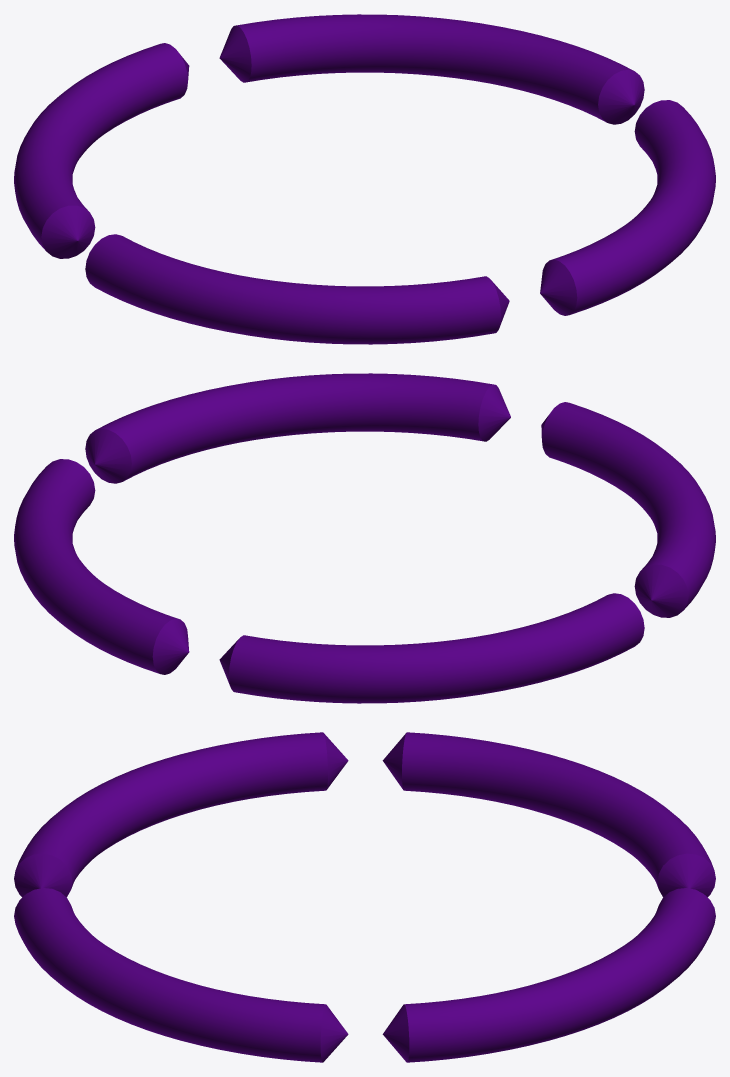
Rendered from Ring 7.gltf.
The picture shows the model from 3 angles, top to bottom: view 1: azimuth 30°, elevation 25°; view 2: azimuth 150°, elevation 25°; view 3: azimuth 270°, elevation 25°; orthographic projection.
Visible parts, largest first — view 1: Object 6; view 2: Object 6; view 3: Object 6.
Boxes of the visible parts, left/top/right/bottom form: Object 6: left=14, top=14, right=715, bottom=344; Object 6: left=14, top=373, right=715, bottom=703; Object 6: left=14, top=732, right=715, bottom=1062.
Bounding box in the file's own units: 0.0476 × 0.004 × 0.0476.
